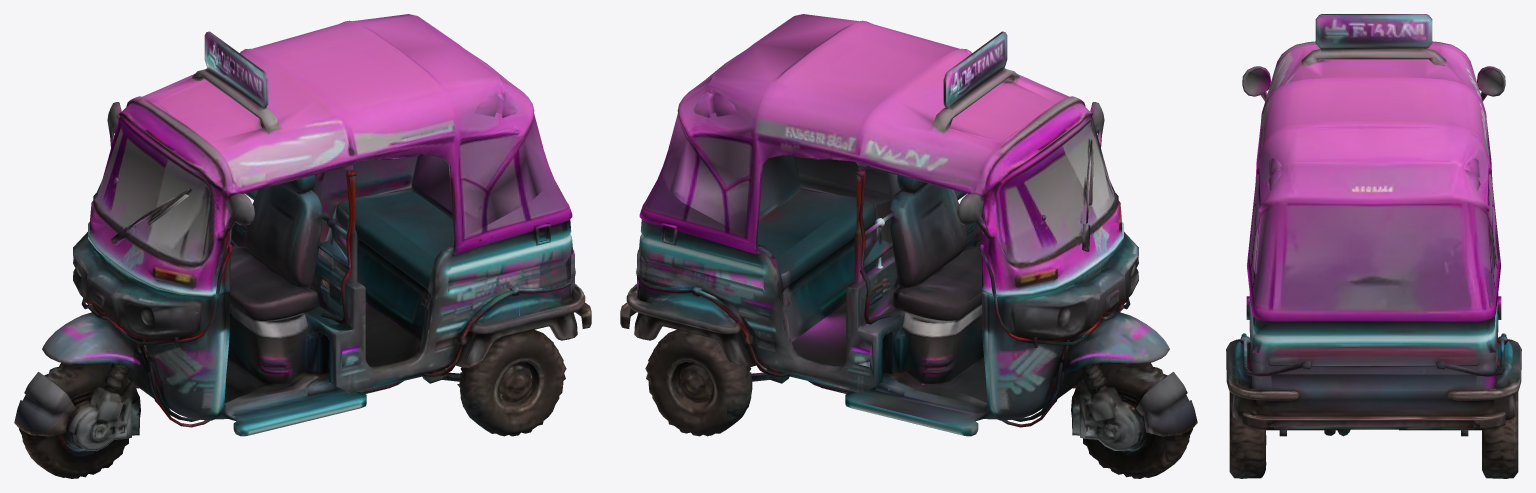
The model's file is tuktuk.glb.
3 renders of one model, left to right at view 1: azimuth 30°, elevation 25°; view 2: azimuth 150°, elevation 25°; view 3: azimuth 270°, elevation 25°, orthographic. The views are drawn at different scales.
Visible parts, largest first — view 1: material; view 2: material; view 3: material.
Boxes of the visible parts, x1,y1,x2,y2 form: material: (14, 14, 591, 478); material: (620, 14, 1197, 478); material: (1226, 14, 1521, 478).
Size of the model in its own units: 1.9 by 1.36 by 1.01.
1 material, 1 textured.
